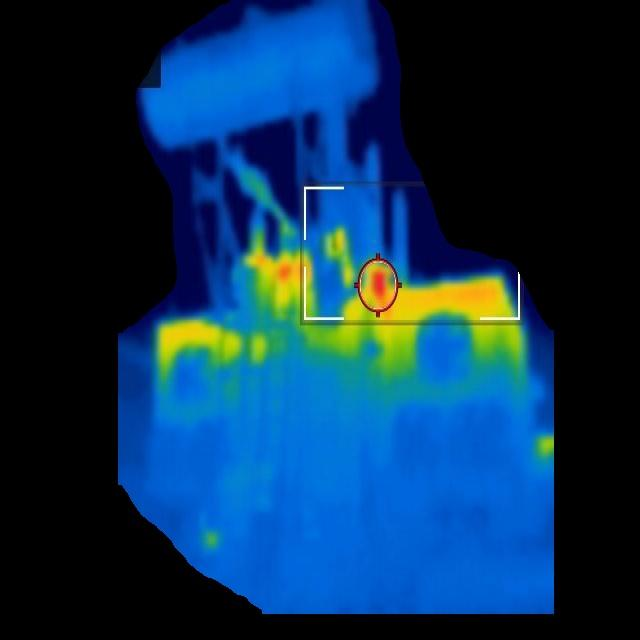Loose Joint F: (241, 246, 306, 303), (352, 249, 397, 301)
Transformer Overload: (158, 272, 536, 390)
